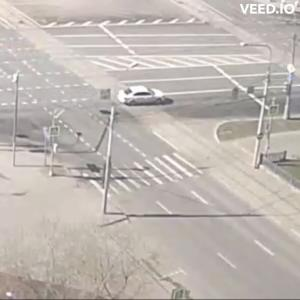car: (120, 86, 174, 108)
